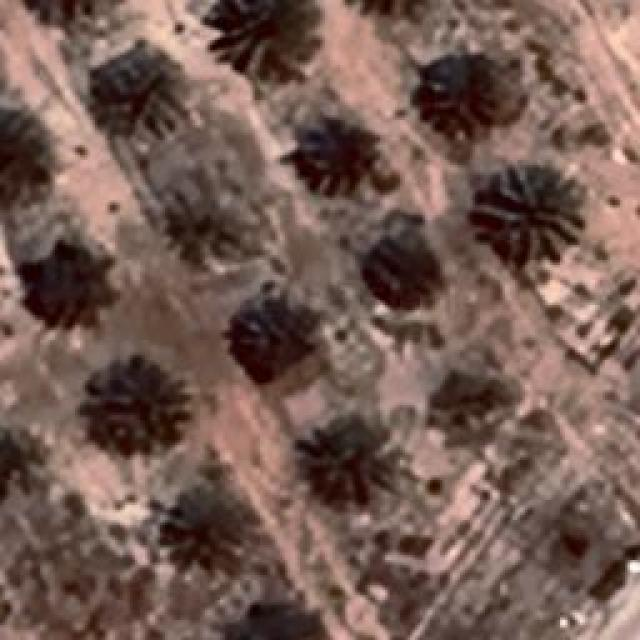PalmTree: (84, 90, 206, 220), (85, 39, 193, 142), (475, 160, 580, 262), (74, 356, 182, 454), (200, 0, 325, 80), (222, 291, 318, 379), (356, 226, 449, 314), (298, 425, 398, 505), (162, 495, 240, 575), (434, 51, 508, 131), (304, 124, 378, 202), (0, 112, 48, 206), (227, 600, 324, 640), (66, 90, 84, 278), (0, 421, 42, 494), (14, 0, 126, 24), (337, 0, 443, 20), (18, 0, 125, 17), (341, 0, 444, 15), (340, 0, 444, 11)
